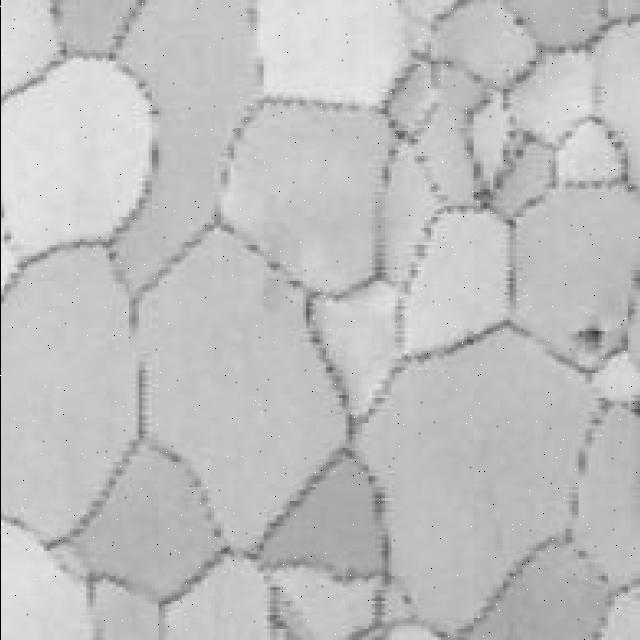good_void: (568, 324, 606, 353), (398, 593, 412, 606)
